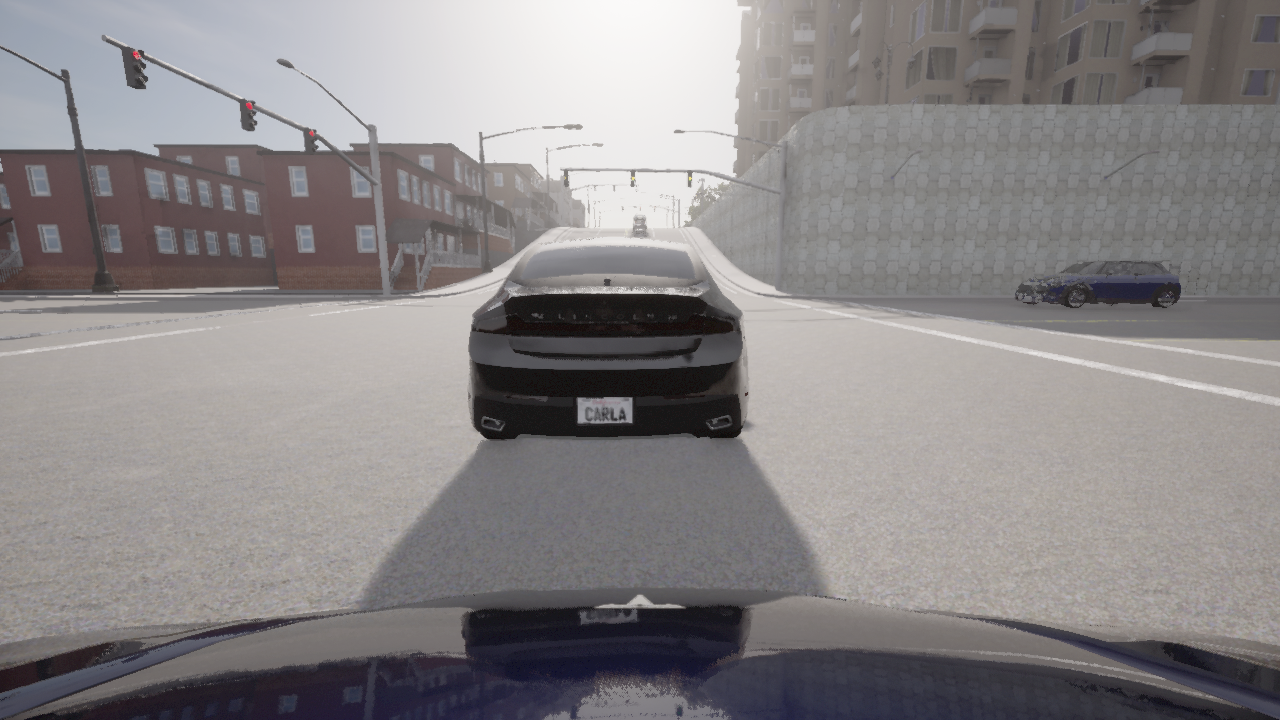cyclist: (0, 588, 1279, 719), (468, 236, 748, 440), (1014, 256, 1180, 308), (631, 228, 648, 237), (632, 221, 647, 230), (633, 214, 646, 222)
